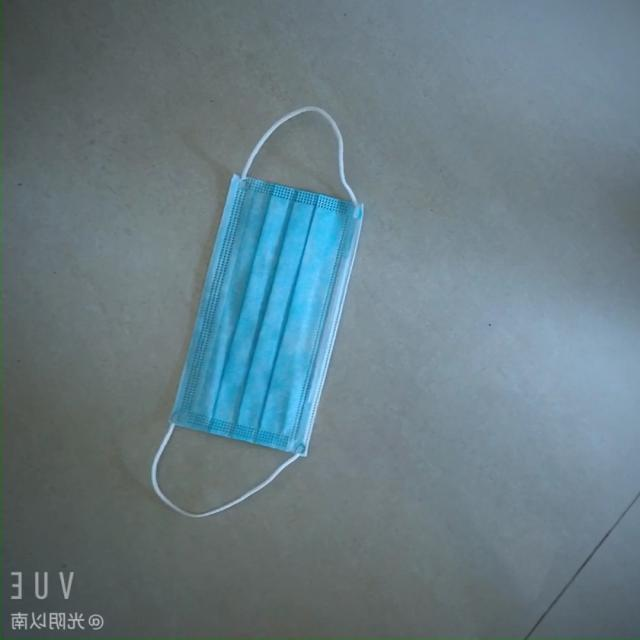face mask: (190, 171, 360, 459)
